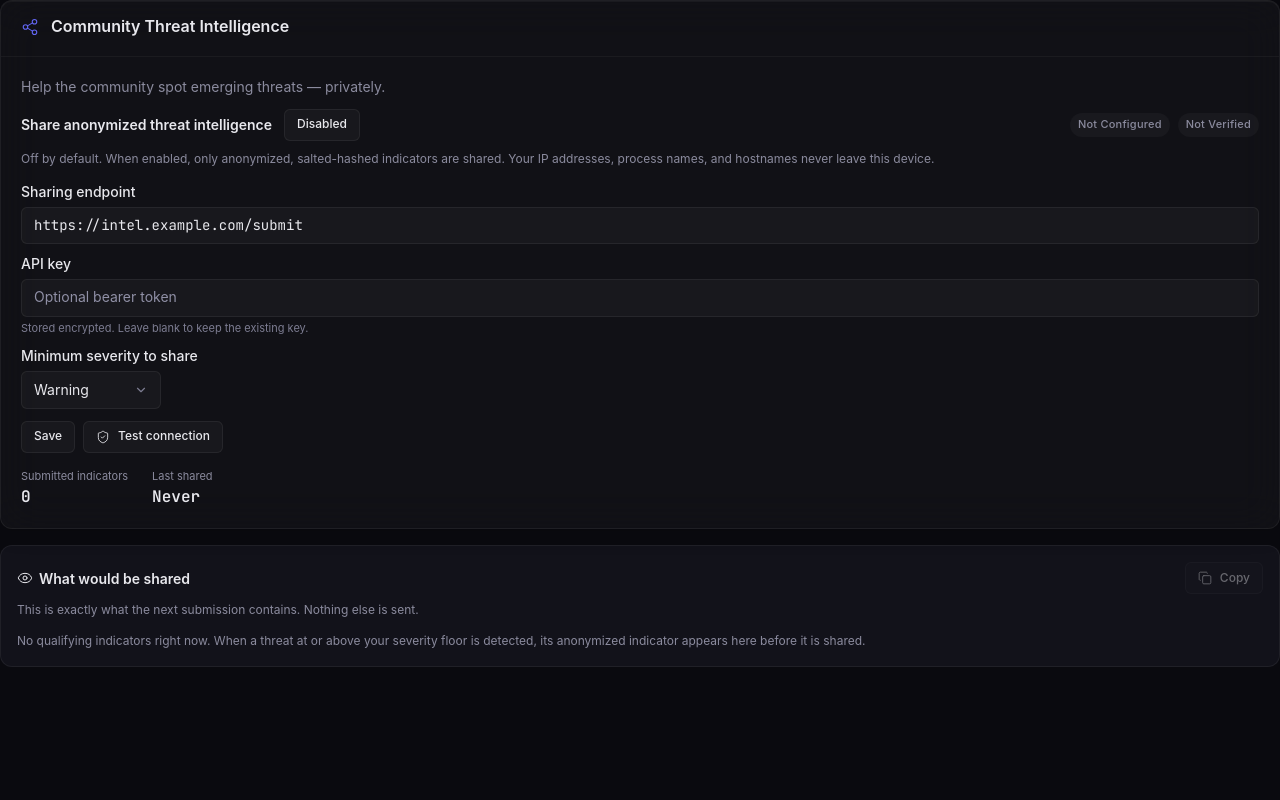
Test case: CommunityView › surfaces a failed connection test instead of failing silently
Expected: the field labelled "Sharing endpoint" is not empty, 21,207 -> 1259,244
Click the button "Test connection": coordinates (153, 436) 83,420 -> 223,452
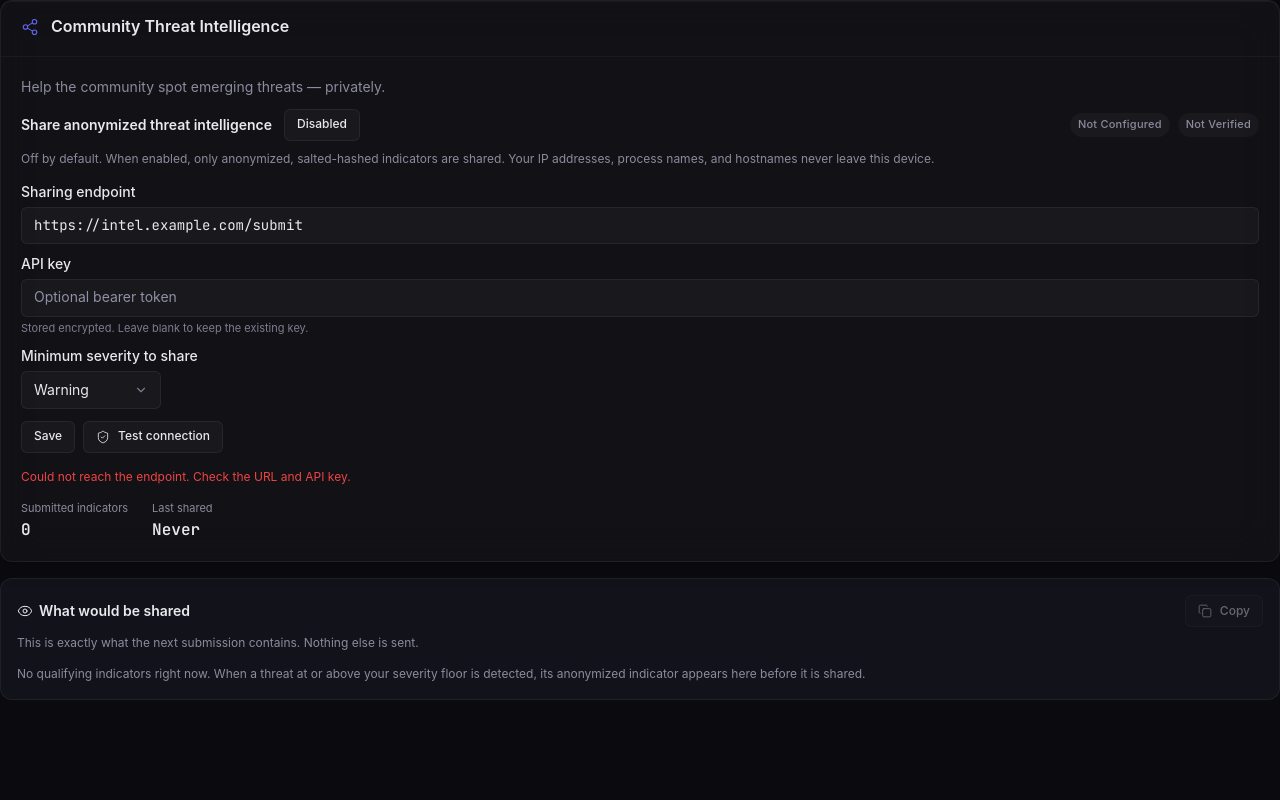
Now the text "Could not reach the endpoint. Check the URL and API key." is shown, box 21,468 -> 351,484
